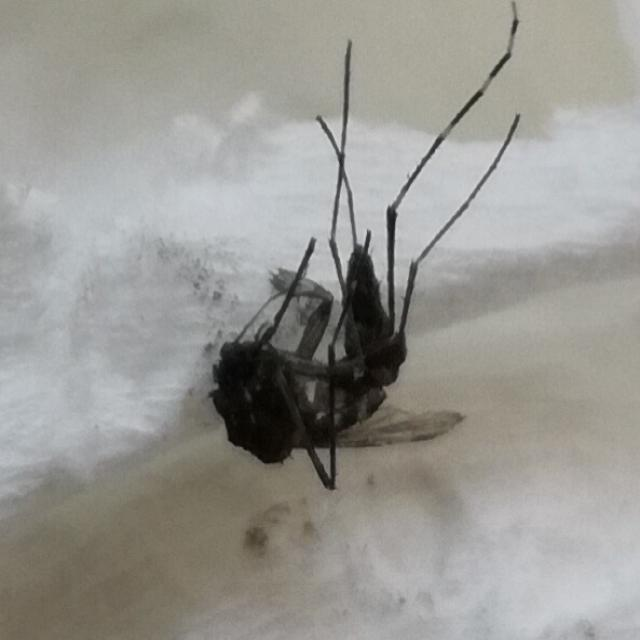albopictus: (177, 1, 545, 525)
